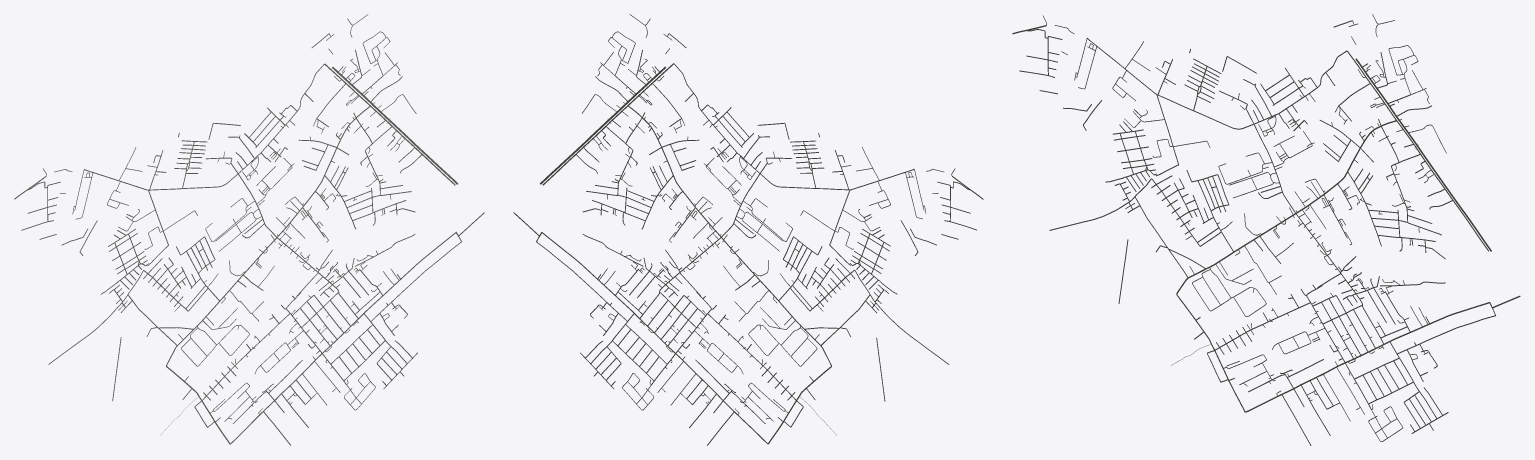
Rendered from roads_4_0.obj.
3 renders of one model, left to right at view 1: azimuth 30°, elevation 25°; view 2: azimuth 150°, elevation 25°; view 3: azimuth 330°, elevation 25°, orthographic. The views are drawn at different scales.
Bounding box in the file's own units: 3299 × 2771 × 7.04.
Materials: 5 (5 with a texture image).
